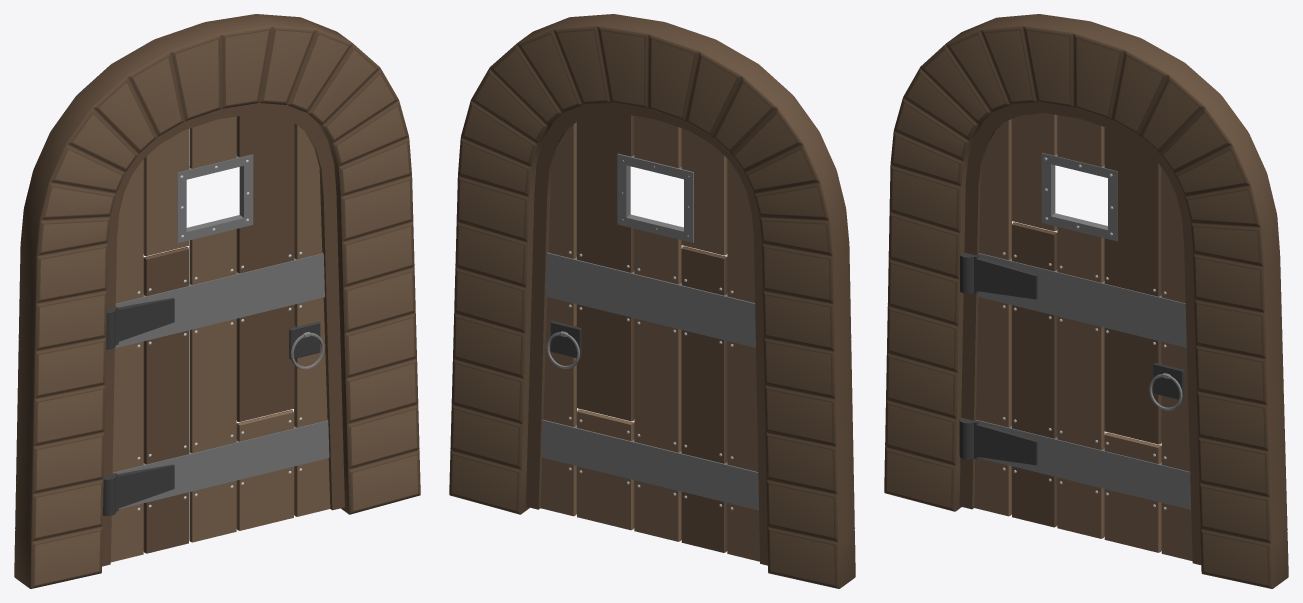
The model's file is BetterDoor.fbx.
The picture shows the model from 3 angles, left to right: view 1: azimuth 30°, elevation 25°; view 2: azimuth 150°, elevation 25°; view 3: azimuth 330°, elevation 25°; orthographic projection.
Parts seen in each view (by area): view 1: DoorFrame, Door; view 2: DoorFrame, Door; view 3: DoorFrame, Door.
Boxes of the visible parts, <box> form: DoorFrame: <box>14,14,420,588</box>; Door: <box>102,103,344,566</box>; DoorFrame: <box>449,14,855,588</box>; Door: <box>526,103,767,565</box>; DoorFrame: <box>884,14,1288,588</box>; Door: <box>959,102,1201,564</box>.
Bounding box in the file's own units: 219 × 274 × 17.43.
